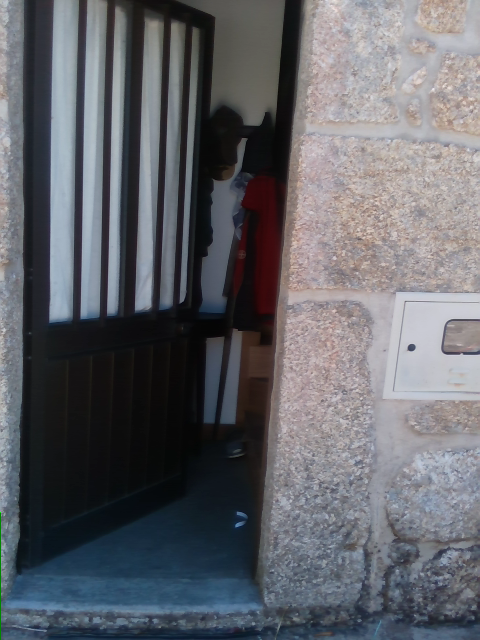semi: (19, 1, 316, 603)
